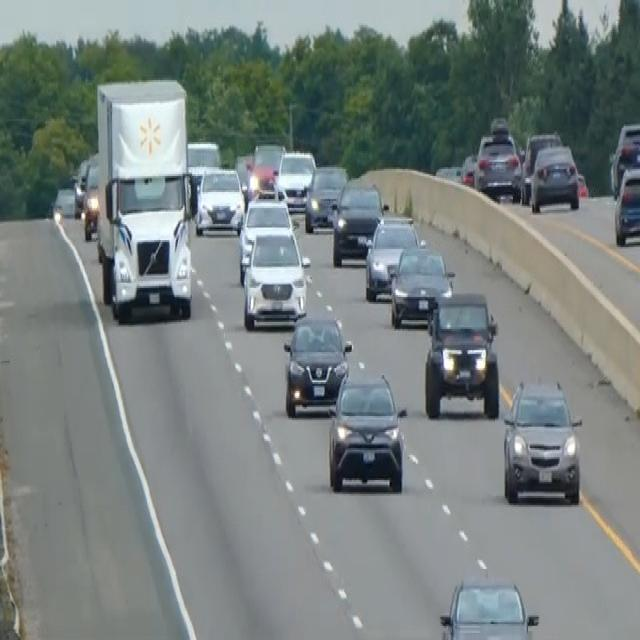car: (501, 375, 583, 505), (423, 288, 500, 418), (327, 370, 406, 494), (282, 311, 352, 416), (242, 224, 310, 329), (438, 574, 539, 638), (389, 242, 454, 329), (330, 178, 386, 266), (364, 212, 420, 300), (237, 194, 293, 282), (529, 142, 580, 214), (195, 163, 244, 234), (473, 131, 522, 201), (304, 162, 348, 233), (521, 130, 561, 201), (275, 148, 316, 210), (609, 121, 639, 194), (613, 164, 639, 245), (248, 138, 285, 194), (81, 153, 100, 240), (186, 137, 221, 183), (51, 183, 78, 224), (72, 156, 90, 217), (459, 151, 477, 187)
lorry: (94, 75, 197, 322)
